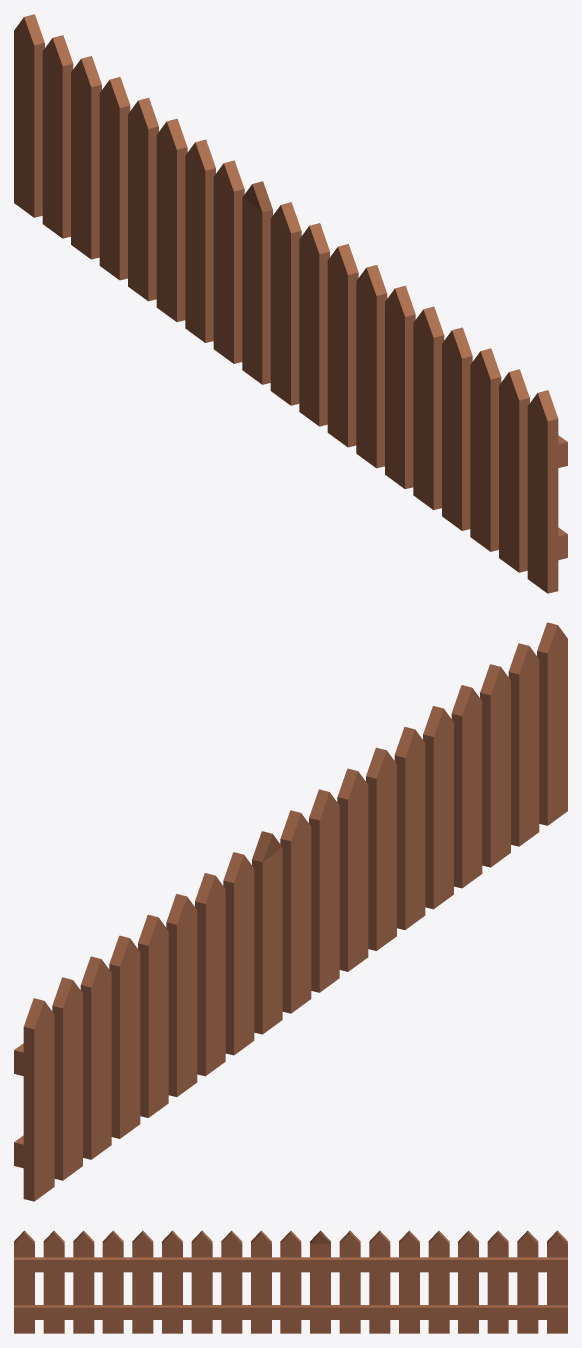
Rendered from FENCE2.fbx.
The picture shows the model from 3 angles, top to bottom: view 1: azimuth 30°, elevation 25°; view 2: azimuth 150°, elevation 25°; view 3: azimuth 270°, elevation 25°; orthographic projection. The views are drawn at different scales.
Visible parts, largest first — view 1: Cube.007; view 2: Cube.007; view 3: Cube.007.
Part boxes in pixels (x1,y1,x2,y2): Cube.007: (14, 14, 567, 593); Cube.007: (14, 622, 567, 1201); Cube.007: (14, 1230, 567, 1333).
Bounding box in the file's own units: 24.75 × 224 × 1123.
